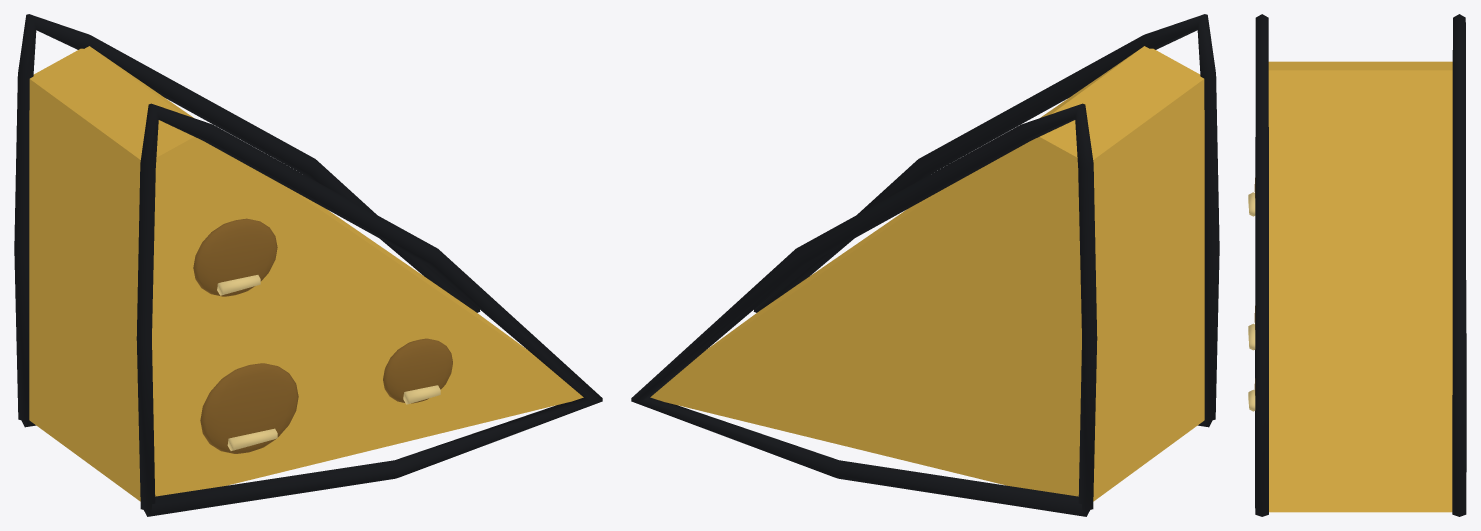
Rendered from cheese.glb.
The picture shows the model from 3 angles, left to right: view 1: azimuth 30°, elevation 25°; view 2: azimuth 150°, elevation 25°; view 3: azimuth 270°, elevation 25°; orthographic projection. The views are drawn at different scales.
Visible parts, largest first — view 1: cheese_Game; view 2: cheese_Game; view 3: cheese_Game.
Part boxes in pixels (x1,y1,x2,y2): cheese_Game: [14, 14, 602, 516]; cheese_Game: [631, 14, 1219, 516]; cheese_Game: [1248, 14, 1466, 516].
Bounding box in the file's own units: 1.33 × 1.18 × 0.6691.
